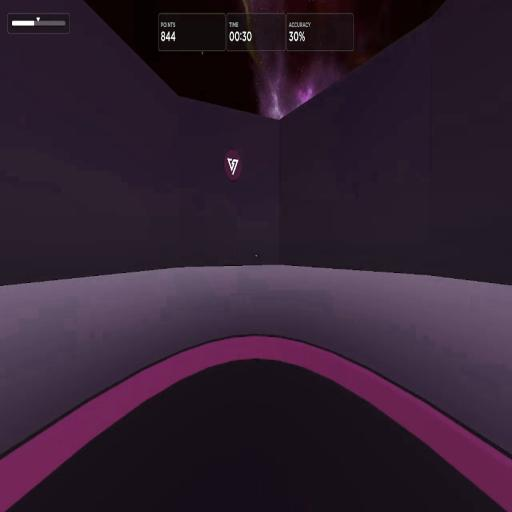Crosshair: (256, 254, 258, 258)
